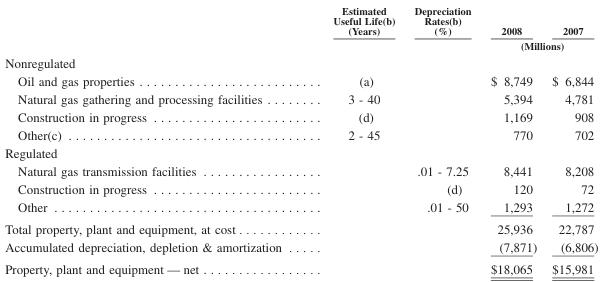table: (4, 4, 597, 276)
table column: (4, 4, 306, 276), (306, 4, 404, 276), (404, 4, 480, 276), (480, 4, 543, 276), (543, 4, 597, 276)
table column header: (4, 4, 597, 53)
table projected row header: (4, 53, 597, 71), (4, 143, 597, 161)
table row: (4, 4, 597, 37), (4, 198, 597, 218), (4, 218, 597, 238), (4, 238, 597, 258), (4, 179, 597, 198), (4, 53, 597, 71), (4, 71, 597, 89), (4, 89, 597, 107), (4, 107, 597, 125), (4, 125, 597, 143), (4, 143, 597, 161), (4, 161, 597, 179), (4, 258, 597, 276), (4, 37, 597, 53)
table spanning cell: (306, 4, 404, 53), (404, 4, 480, 53), (480, 37, 597, 53)
